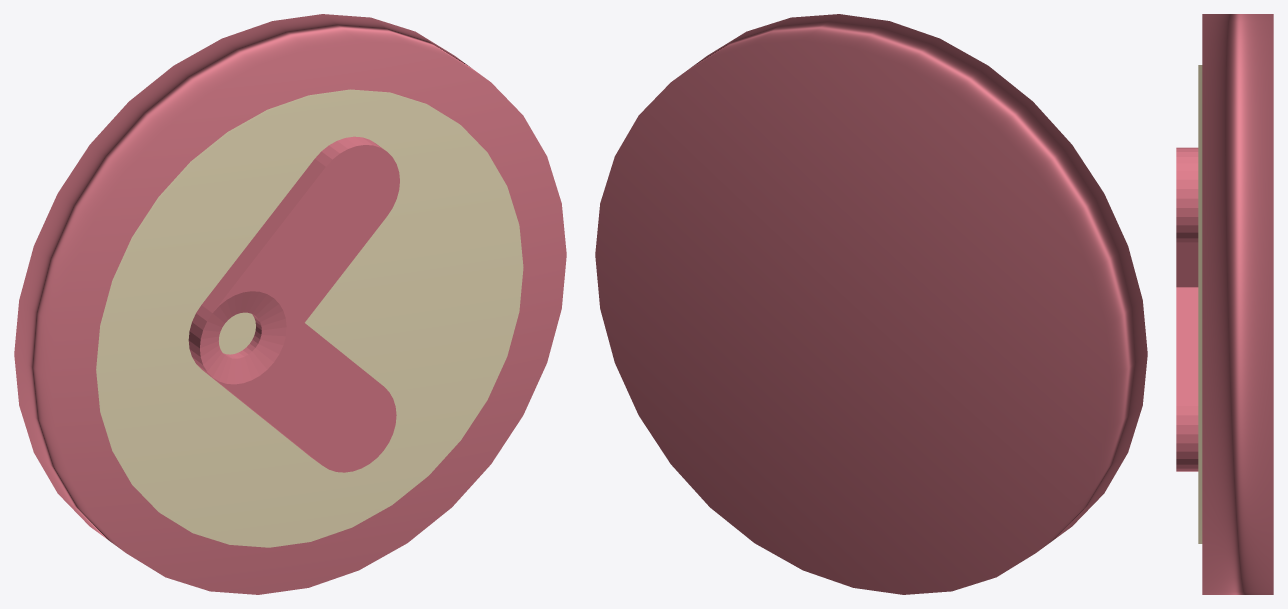
The model's file is button.glb.
3 views of the same model, side by side, from view 1: azimuth 30°, elevation 25°; view 2: azimuth 150°, elevation 25°; view 3: azimuth 270°, elevation 25° (orthographic). The views are drawn at different scales.
Visible parts, largest first — view 1: Cylinder.001, Cylinder, Cylinder.003; view 2: Cylinder; view 3: Cylinder, Cylinder.003, Cylinder.001.
Part boxes in pixels (<box>): Cylinder.001: <box>96,89,523,547</box>; Cylinder: <box>14,14,566,594</box>; Cylinder.003: <box>188,136,399,472</box>; Cylinder: <box>595,14,1147,594</box>; Cylinder: <box>1202,14,1273,594</box>; Cylinder.003: <box>1176,147,1198,471</box>; Cylinder.001: <box>1198,65,1202,543</box>.
Size of the model in its own units: 2.48 by 2.48 by 0.4141.
